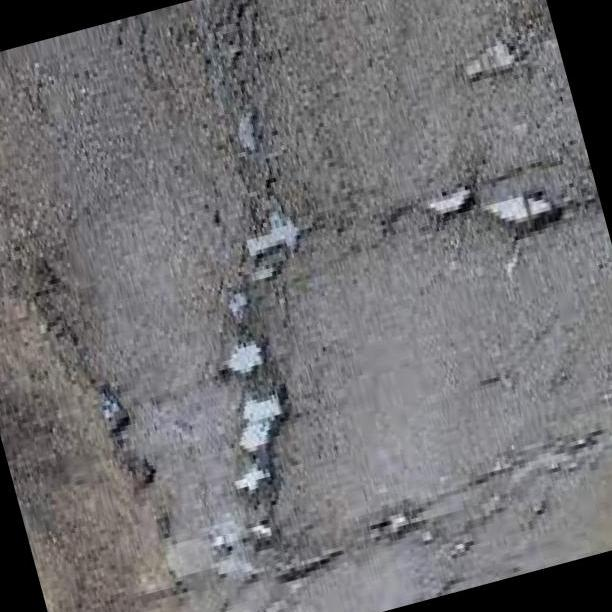pothole: (483, 184, 566, 244), (230, 383, 300, 454), (461, 33, 531, 93), (210, 329, 272, 385), (410, 180, 480, 227), (245, 208, 306, 260), (370, 507, 430, 556), (234, 460, 277, 499), (222, 280, 258, 318), (242, 514, 280, 548)
